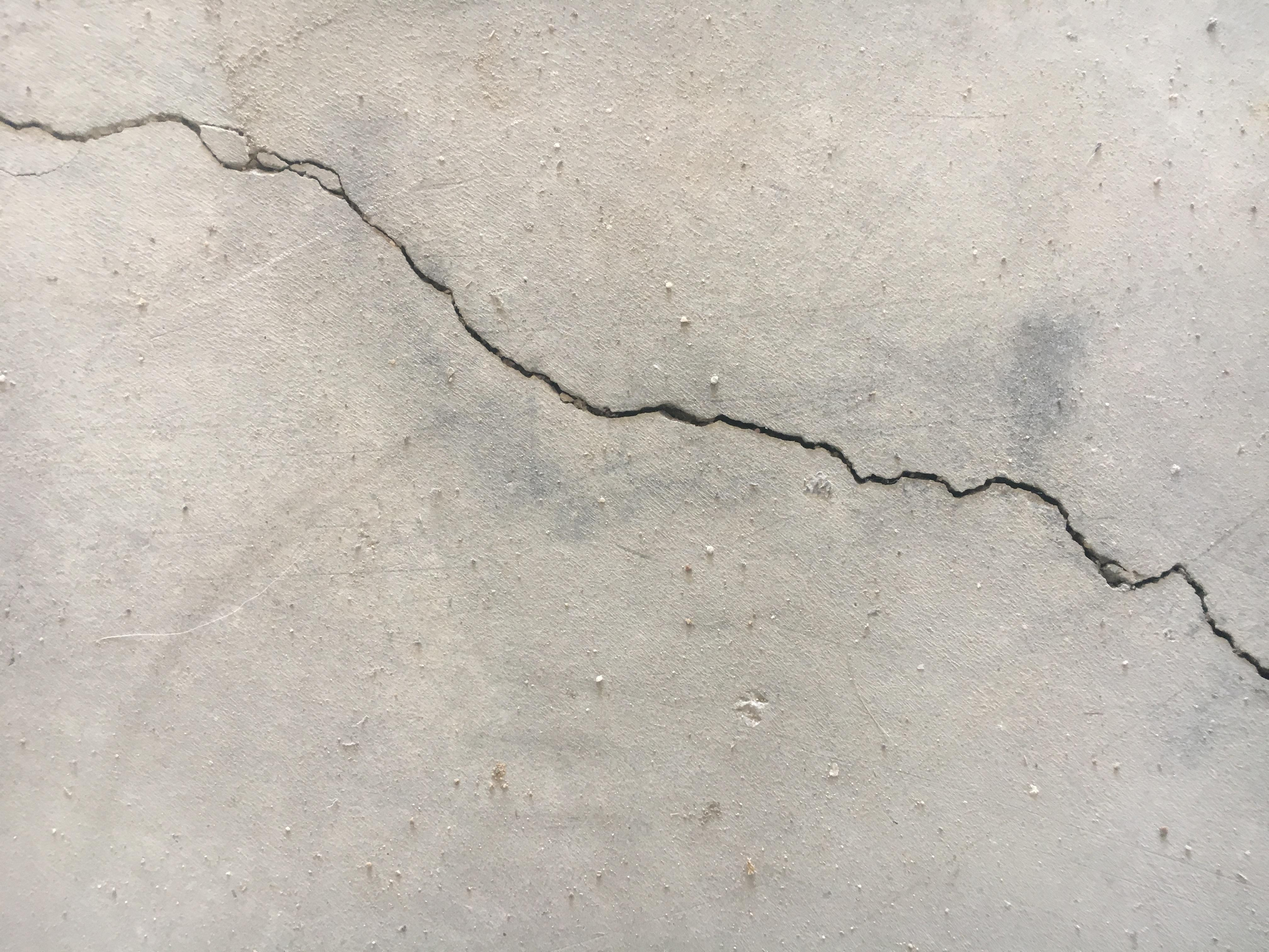Diagonal Crack: (4, 102, 1264, 683)
